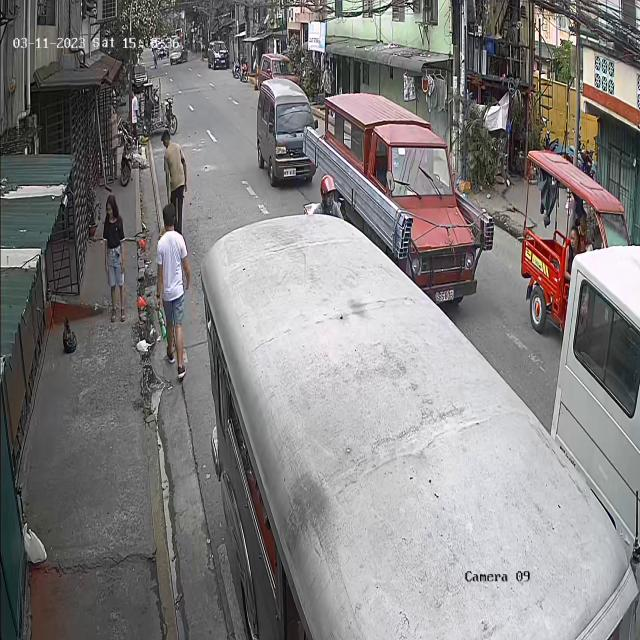garbage_dumping: (19, 517, 49, 572), (62, 319, 76, 354)
